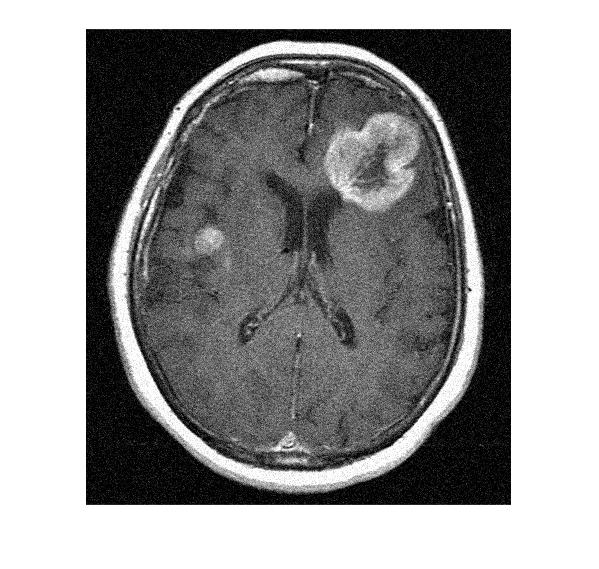Brain_Cancer: (322, 105, 421, 220)
